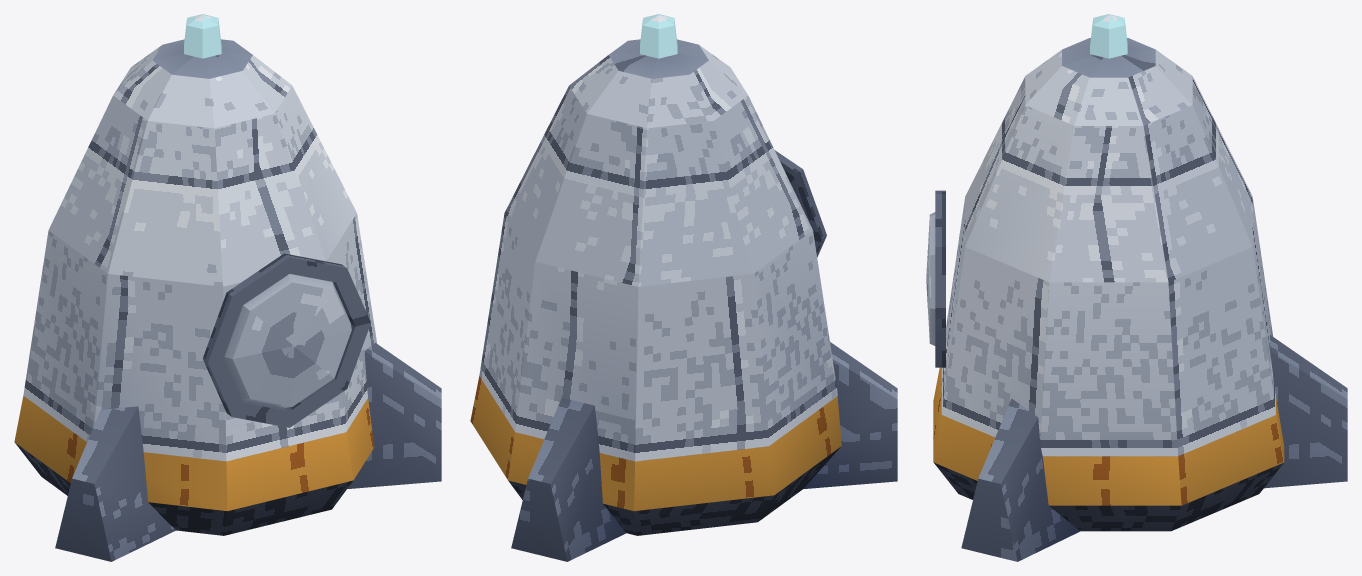
Rendered from ship.escape_pod.glb.
3 renders of one model, left to right at view 1: azimuth 30°, elevation 25°; view 2: azimuth 150°, elevation 25°; view 3: azimuth 270°, elevation 25°, orthographic.
Parts seen in each view (by area): view 1: kit_body, kit_fins, kit_hatch, kit_hatch_ring, kit_beacon; view 2: kit_body, kit_fins, kit_beacon, kit_hatch_ring; view 3: kit_body, kit_fins, kit_hatch_ring, kit_beacon, kit_hatch.
Boxes of the visible parts, x1,y1,x2,y2 form: kit_body: (14,39,377,535); kit_fins: (55,343,441,561); kit_hatch: (224,274,351,408); kit_hatch_ring: (202,253,370,427); kit_beacon: (184,14,221,58); kit_body: (470,39,841,535); kit_fins: (511,342,897,561); kit_beacon: (640,14,677,58); kit_hatch_ring: (774,150,826,257); kit_body: (933,38,1284,531); kit_fins: (961,335,1347,561); kit_hatch_ring: (935,190,945,367); kit_beacon: (1090,14,1127,58); kit_hatch: (926,212,935,345).
Size of the model in its own units: 2.47 by 2.76 by 2.33.
Materials: 7 (7 with a texture image).
